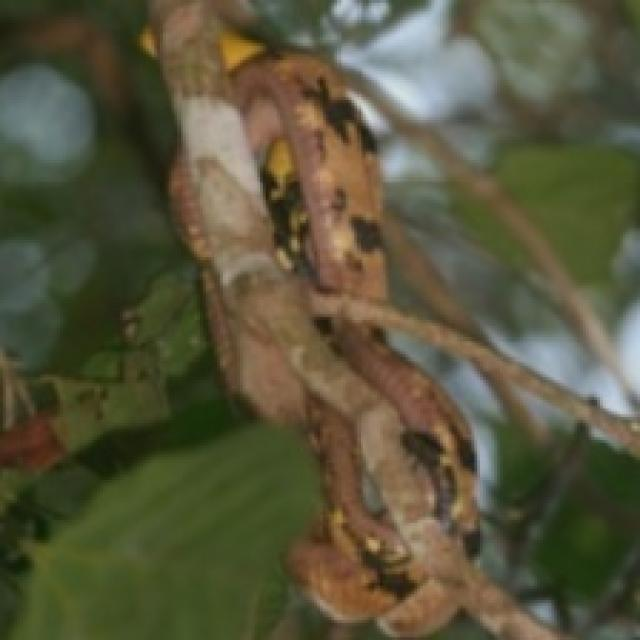dog-toothed cat snake: (229, 49, 503, 634)
